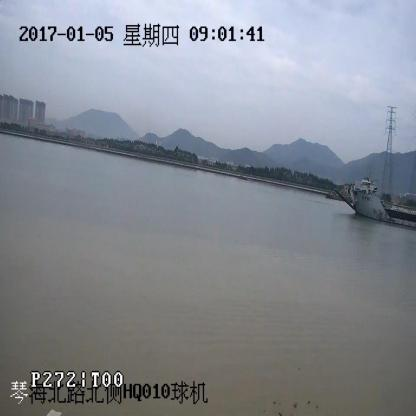Bulk Carrier: (335, 182, 416, 229)
